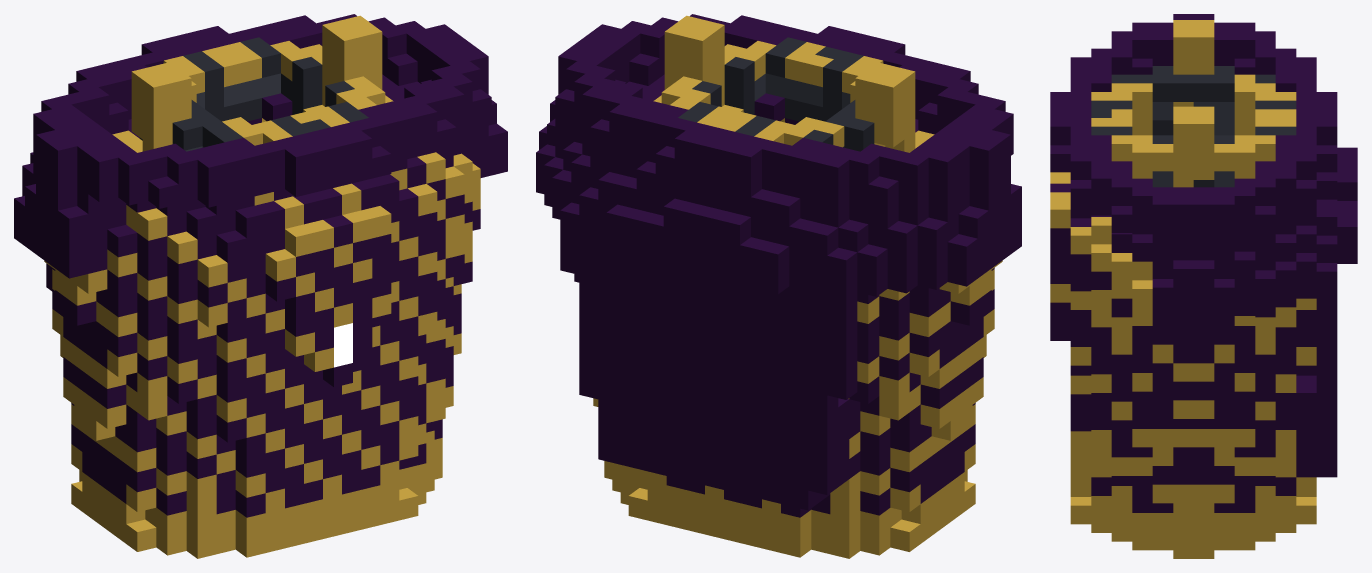
The model's file is scale_legendary_chest_lod1.glb.
The picture shows the model from 3 angles, left to right: view 1: azimuth 30°, elevation 25°; view 2: azimuth 150°, elevation 25°; view 3: azimuth 270°, elevation 25°; orthographic projection. The views are drawn at different scales.
Visible parts, largest first — view 1: scale_legendary_chest_lod1; view 2: scale_legendary_chest_lod1; view 3: scale_legendary_chest_lod1.
Part boxes in pixels (box(x1,y1,x2,y2)): scale_legendary_chest_lod1: box(14, 14, 507, 558); scale_legendary_chest_lod1: box(536, 14, 1021, 558); scale_legendary_chest_lod1: box(1050, 14, 1357, 558).
Bounding box in the file's own units: 0.552 × 0.528 × 0.36.
